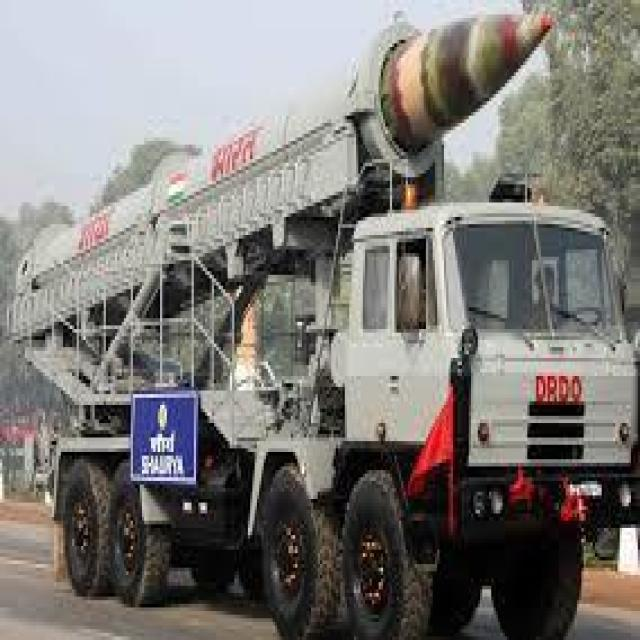Tanks: (11, 31, 634, 627)
